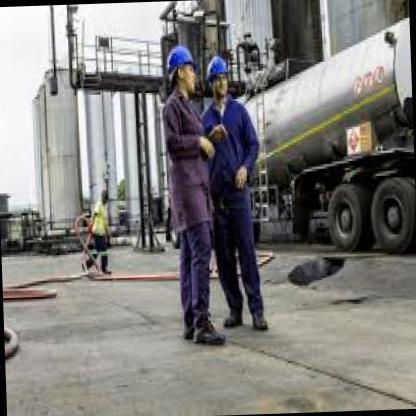safety-shoe: (194, 320, 222, 353), (224, 308, 249, 336), (248, 310, 270, 338)
